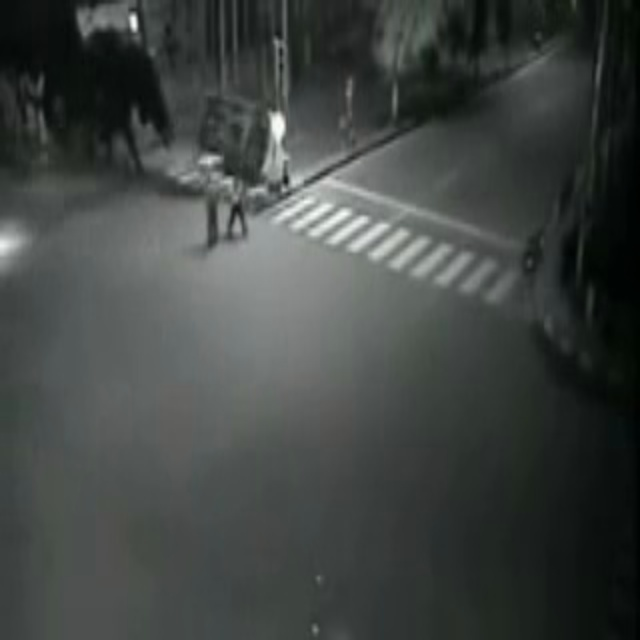acc: (195, 86, 295, 189)
